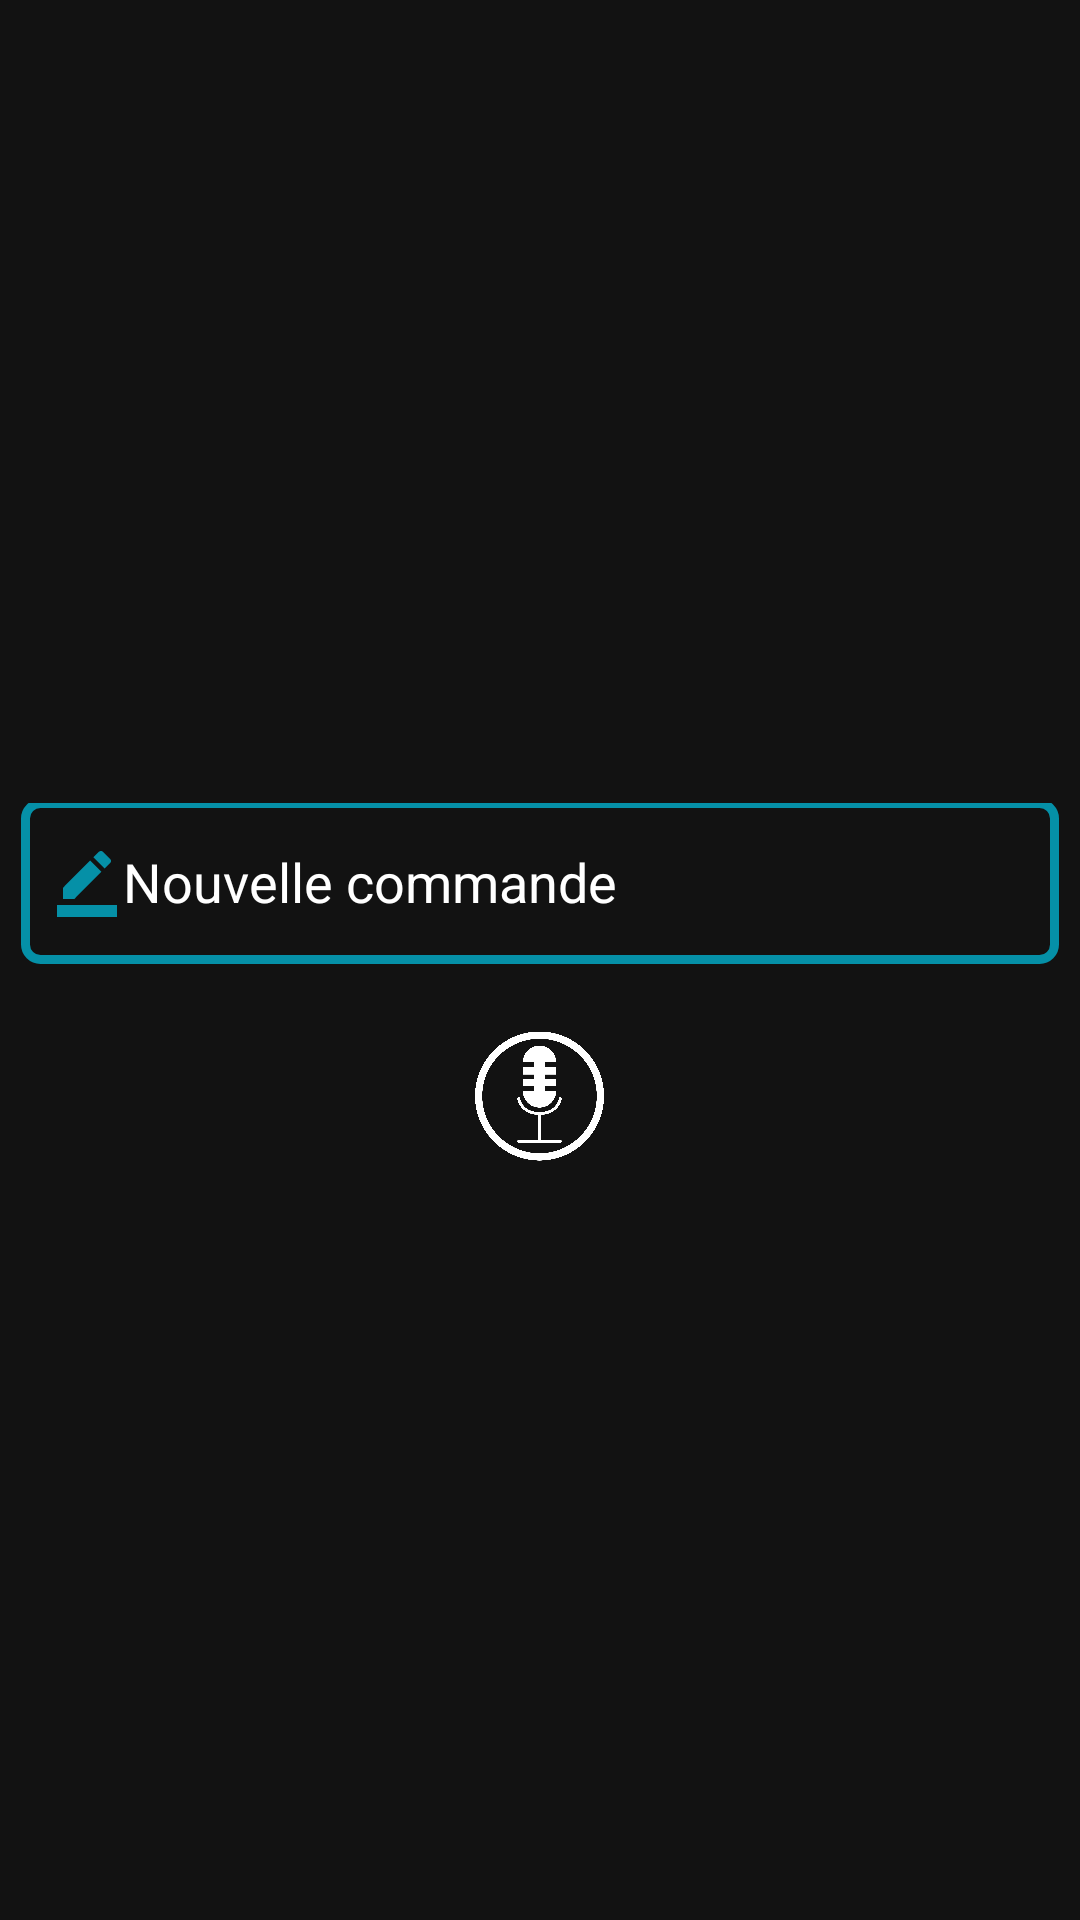

Screen size 1080x1920. Icon name, then its center in pixels as (x=x, y=y):
record: (x=539, y=1096)
